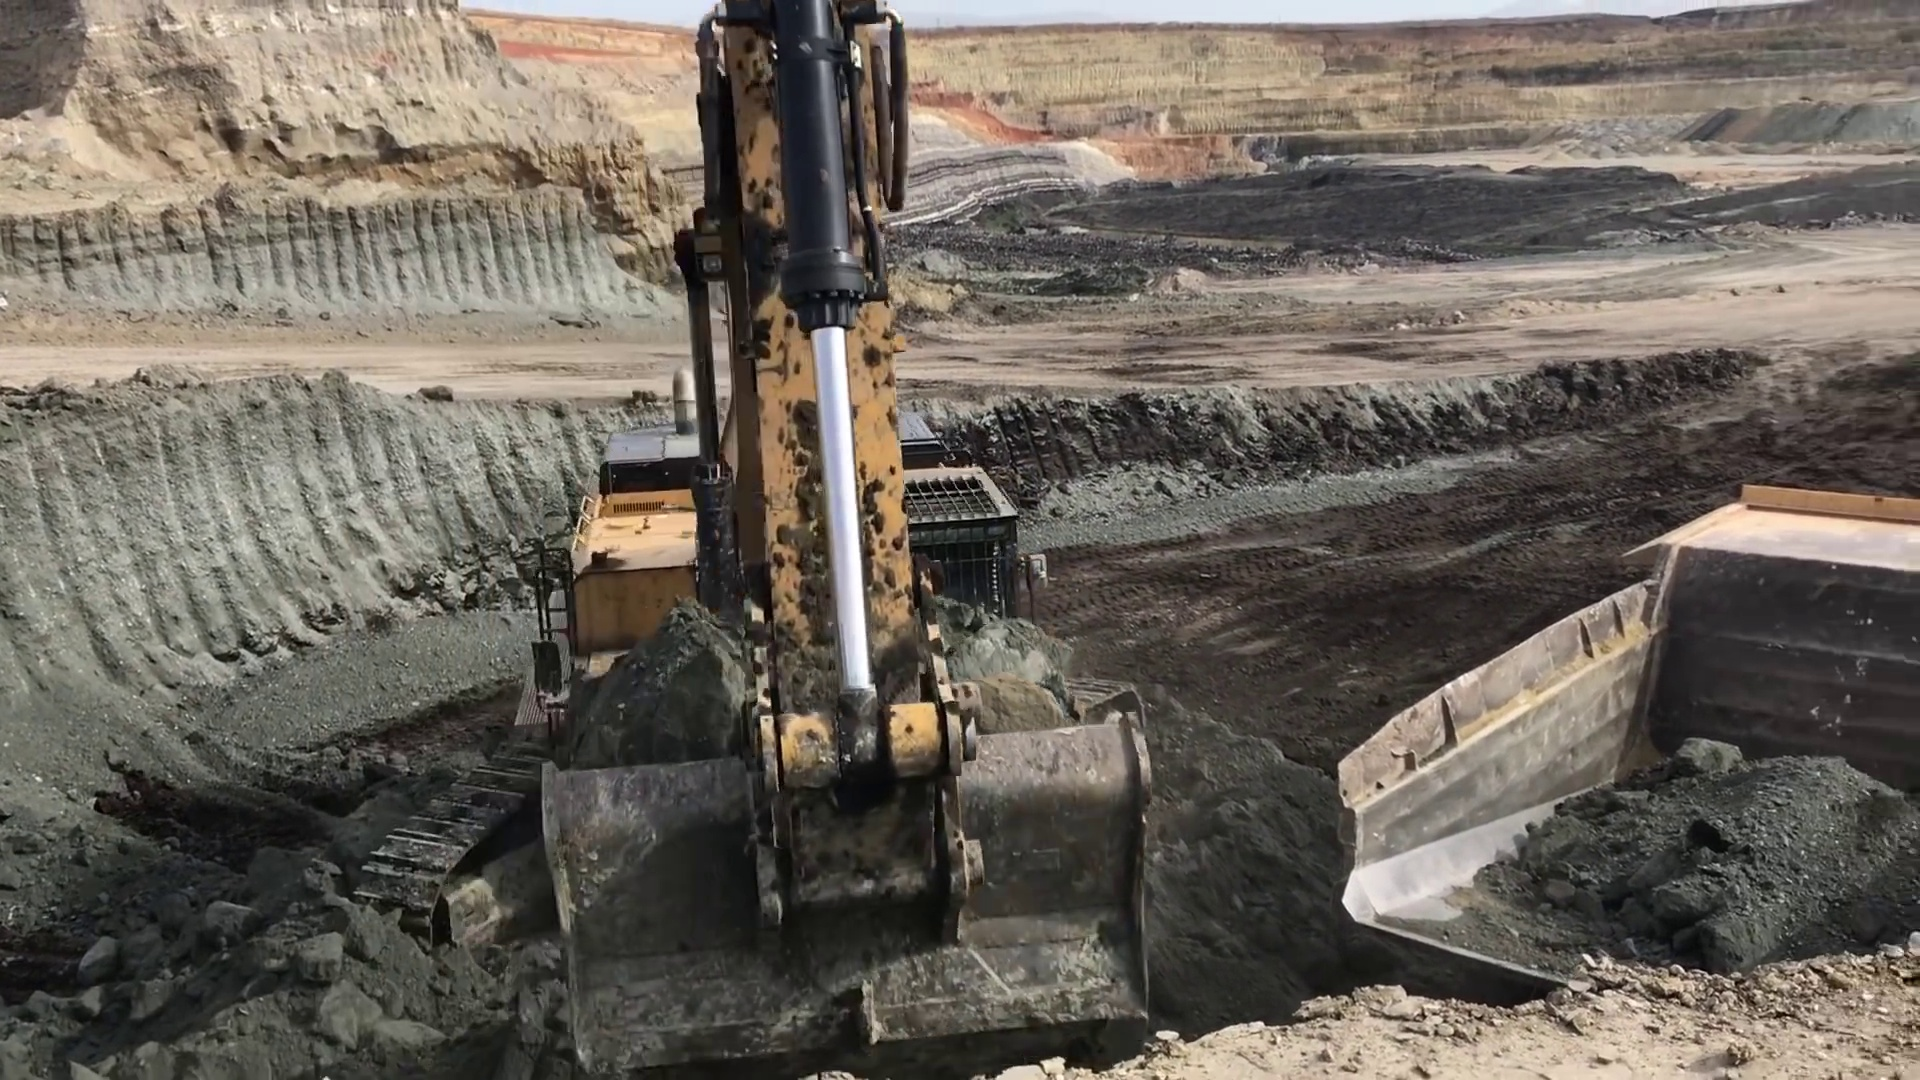dumper: (1332, 473, 1920, 1033)
excavator: (348, 7, 1162, 1060)
